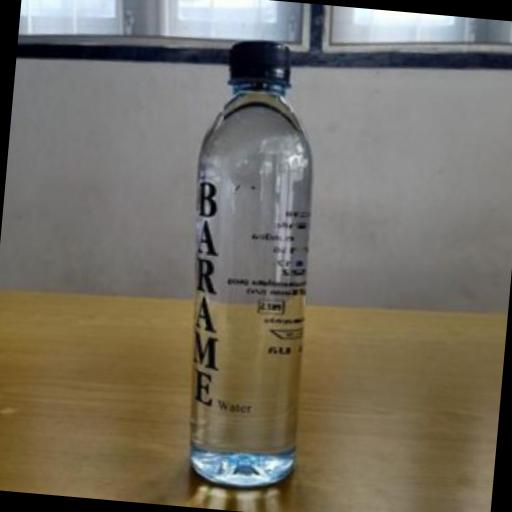Coca: (161, 25, 350, 500)
